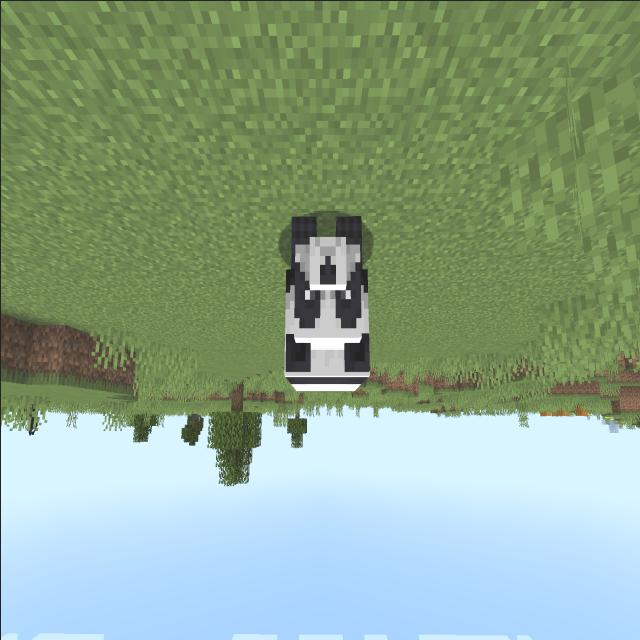Panda: (272, 194, 376, 404)
